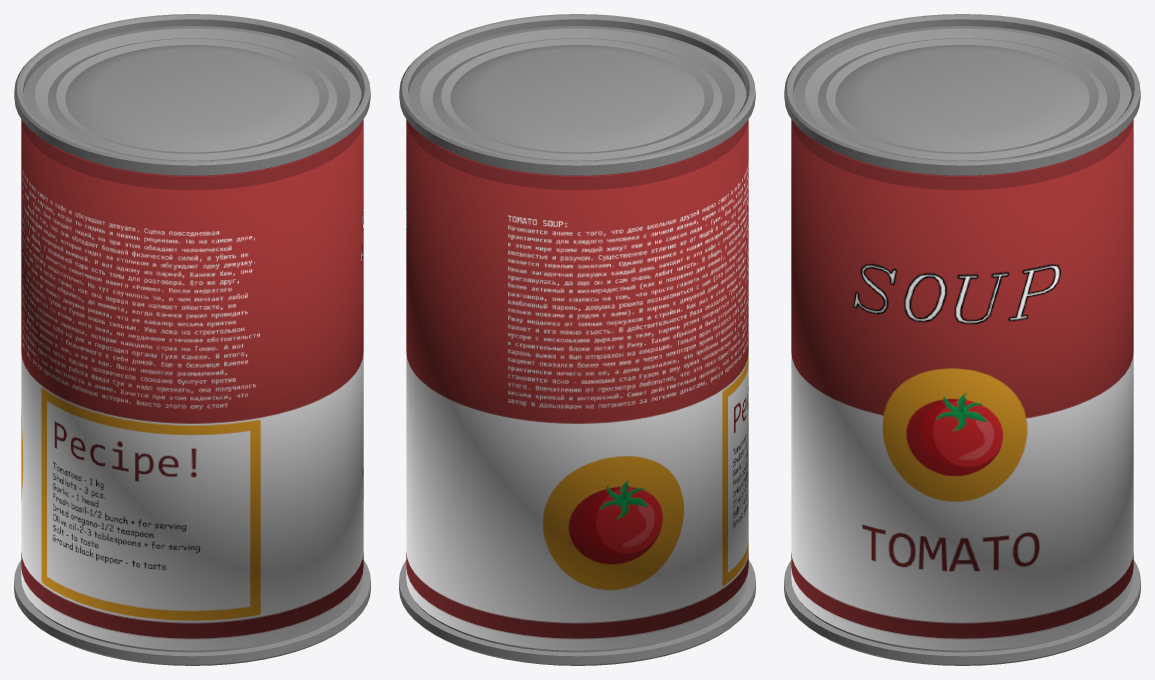
File: madstore_soup_gold.fbx
3 views of the same model, side by side, from view 1: azimuth 30°, elevation 25°; view 2: azimuth 150°, elevation 25°; view 3: azimuth 270°, elevation 25° (orthographic).
Visible parts, largest first — view 1: Cylinder; view 2: Cylinder; view 3: Cylinder.
Boxes of the visible parts, x1,y1,x2,y2 form: Cylinder: (14, 14, 370, 665); Cylinder: (399, 14, 755, 665); Cylinder: (784, 14, 1140, 665).
Bounding box in the file's own units: 211 × 328 × 211.
2 materials, 1 textured.
